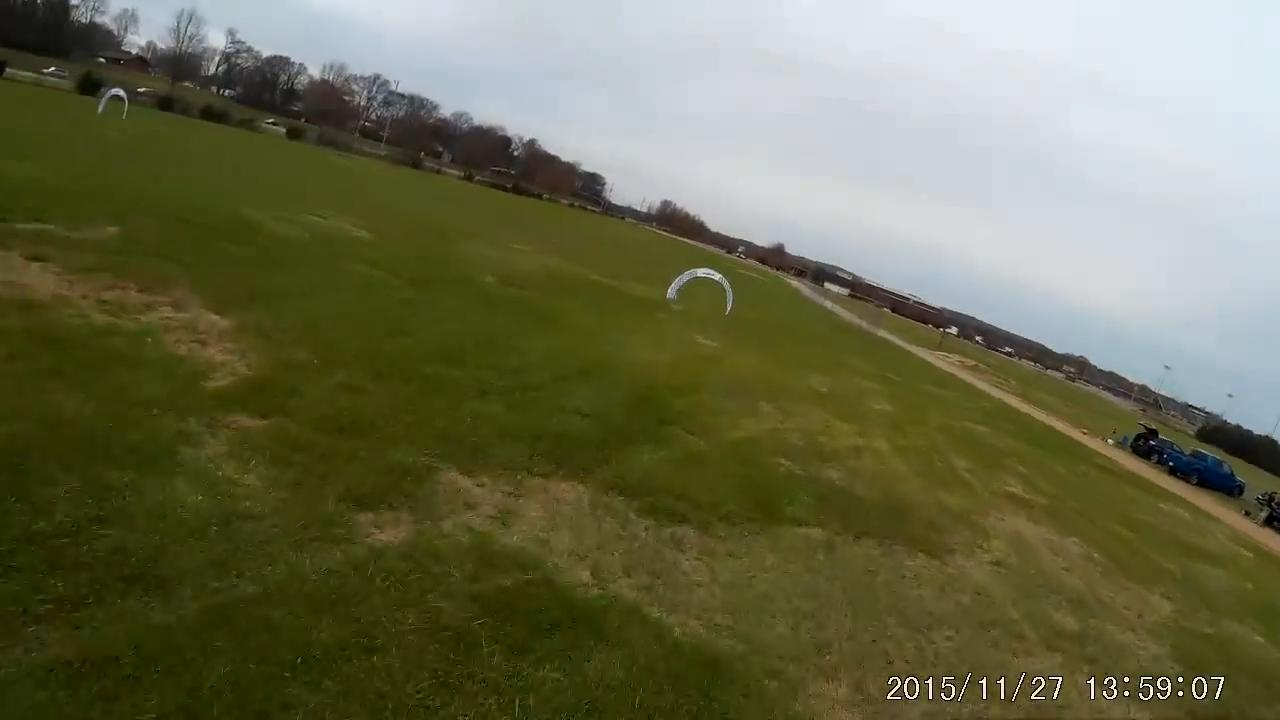gate: (666, 264, 736, 317)
